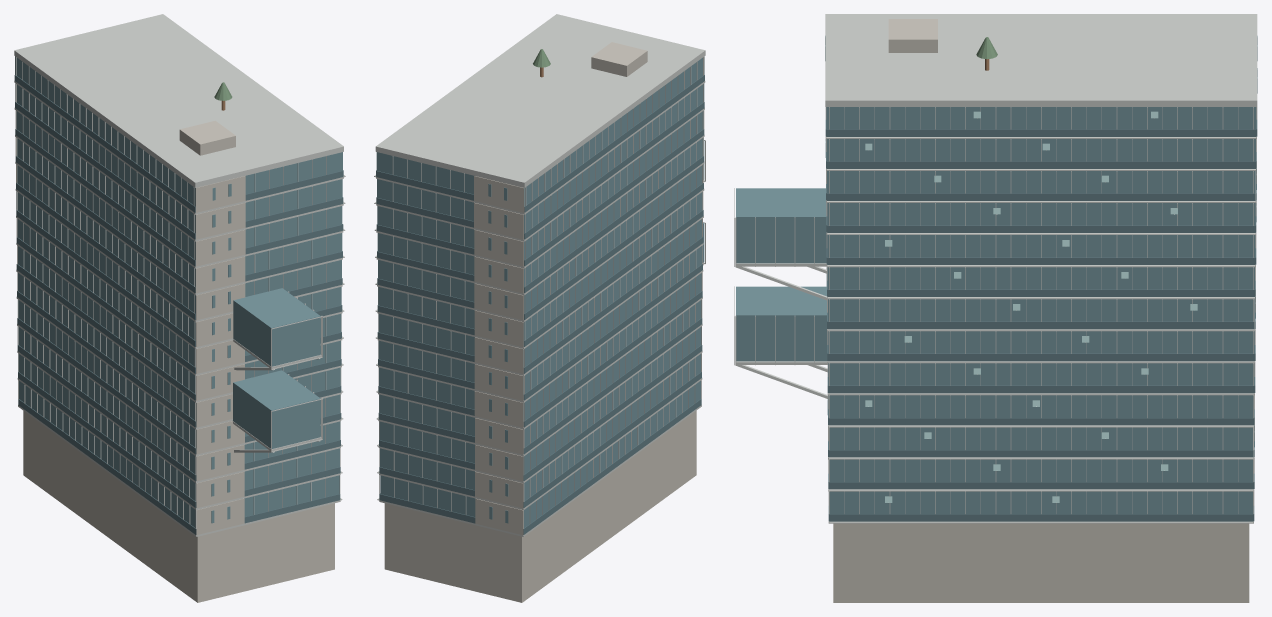
3 renders of one model, left to right at view 1: azimuth 30°, elevation 25°; view 2: azimuth 150°, elevation 25°; view 3: azimuth 270°, elevation 25°, orthographic. The views are drawn at different scales.
Visible parts, largest first — view 1: b04n__glass, b04n__frame, b04n__stone-wall, b04n__spandrel-wall; view 2: b04n__glass, b04n__frame, b04n__stone-wall, b04n__spandrel-wall; view 3: b04n__glass, b04n__frame, b04n__spandrel-wall, b04n__stone-wall, b04n__glass-light.
Boxes of the visible parts, left/top/right/bottom form: b04n__glass: left=15, top=56, right=342, bottom=527; b04n__frame: left=14, top=14, right=345, bottom=536; b04n__stone-wall: left=15, top=56, right=334, bottom=602; b04n__spandrel-wall: left=14, top=75, right=343, bottom=534; b04n__glass: left=376, top=57, right=704, bottom=527; b04n__frame: left=374, top=14, right=705, bottom=536; b04n__stone-wall: left=384, top=42, right=704, bottom=602; b04n__spandrel-wall: left=376, top=75, right=704, bottom=534; b04n__glass: left=736, top=36, right=1257, bottom=513; b04n__frame: left=734, top=14, right=1257, bottom=523; b04n__spandrel-wall: left=825, top=119, right=1257, bottom=521; b04n__stone-wall: left=833, top=19, right=1249, bottom=602; b04n__glass-light: left=865, top=111, right=1197, bottom=502.
Bounding box in the file's own units: 21.24 × 60.2 × 53.12.
